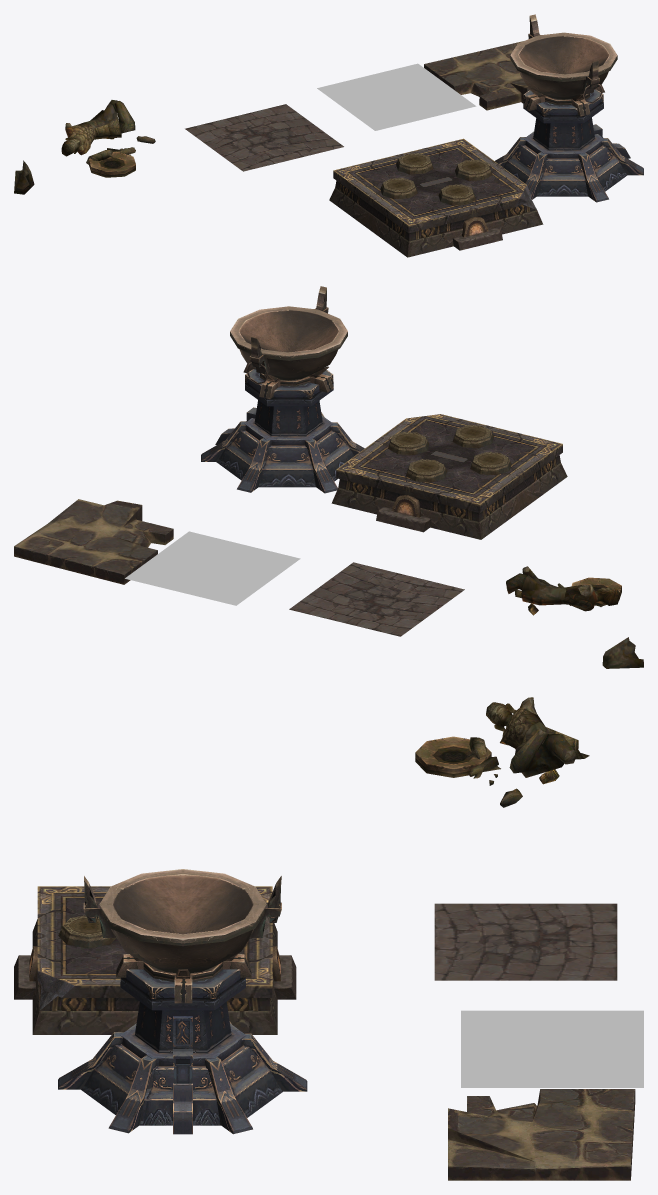
The model's file is 2_LSSD_DiBiaoZaWuPwiJian_01.FBX.
The picture shows the model from 3 angles, top to bottom: view 1: azimuth 30°, elevation 25°; view 2: azimuth 150°, elevation 25°; view 3: azimuth 270°, elevation 25°; orthographic projection. The views are drawn at different scales.
Parts seen in each view (by area): view 1: 2_LSSD_HuoPenPeiJian_02, 2_LSSD_HuoPenPeiJian_01, 2_LSSD_PoDiZhuanShiBan_10, 2_LSSD_PoDiZhuanShiBan_09, 2_LSSD_PoDiZhuanShiBan_08, 2_LSSD_DaoDiSuiShiXiang_01, 2_LSSD_DaoDiSuiShiXiang_02; view 2: 2_LSSD_HuoPenPeiJian_02, 2_LSSD_HuoPenPeiJian_01, 2_LSSD_PoDiZhuanShiBan_08, 2_LSSD_PoDiZhuanShiBan_10, 2_LSSD_PoDiZhuanShiBan_09, 2_LSSD_DaoDiSuiShiXiang_01, 2_LSSD_DaoDiSuiShiXiang_02; view 3: 2_LSSD_HuoPenPeiJian_01, 2_LSSD_HuoPenPeiJian_02, 2_LSSD_PoDiZhuanShiBan_08, 2_LSSD_PoDiZhuanShiBan_10, 2_LSSD_PoDiZhuanShiBan_09, 2_LSSD_DaoDiSuiShiXiang_01, 2_LSSD_DaoDiSuiShiXiang_02.
Boxes of the visible parts, box(x1,y1,x2,y2) form: 2_LSSD_HuoPenPeiJian_02: box(329, 138, 543, 257); 2_LSSD_HuoPenPeiJian_01: box(495, 14, 643, 202); 2_LSSD_PoDiZhuanShiBan_10: box(185, 104, 343, 171); 2_LSSD_PoDiZhuanShiBan_09: box(317, 63, 476, 130); 2_LSSD_PoDiZhuanShiBan_08: box(424, 41, 530, 110); 2_LSSD_DaoDiSuiShiXiang_01: box(14, 100, 155, 194); 2_LSSD_DaoDiSuiShiXiang_02: box(89, 138, 135, 177); 2_LSSD_HuoPenPeiJian_02: box(331, 414, 567, 539); 2_LSSD_HuoPenPeiJian_01: box(201, 286, 364, 493); 2_LSSD_PoDiZhuanShiBan_08: box(14, 499, 173, 584); 2_LSSD_PoDiZhuanShiBan_10: box(289, 562, 464, 636); 2_LSSD_PoDiZhuanShiBan_09: box(125, 531, 300, 605); 2_LSSD_DaoDiSuiShiXiang_01: box(506, 566, 643, 668); 2_LSSD_DaoDiSuiShiXiang_02: box(528, 577, 621, 615); 2_LSSD_HuoPenPeiJian_01: box(58, 869, 307, 1134); 2_LSSD_HuoPenPeiJian_02: box(14, 886, 296, 1034); 2_LSSD_PoDiZhuanShiBan_08: box(448, 1089, 635, 1180); 2_LSSD_PoDiZhuanShiBan_10: box(434, 903, 617, 980); 2_LSSD_PoDiZhuanShiBan_09: box(461, 1010, 643, 1087); 2_LSSD_DaoDiSuiShiXiang_01: box(467, 697, 589, 807); 2_LSSD_DaoDiSuiShiXiang_02: box(415, 736, 559, 784).
Bounding box in the file's own units: 1497 × 376 × 965.
